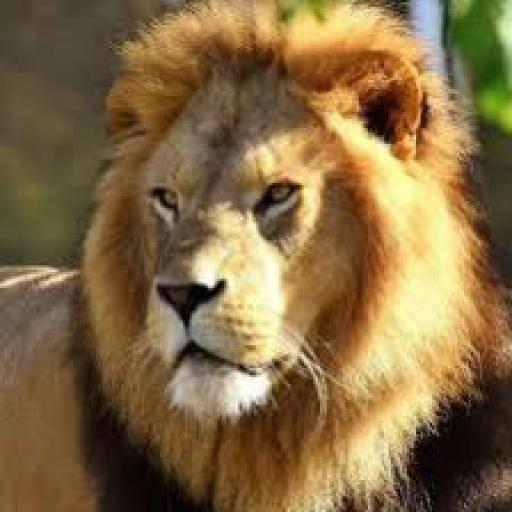lion: (59, 2, 494, 506)
